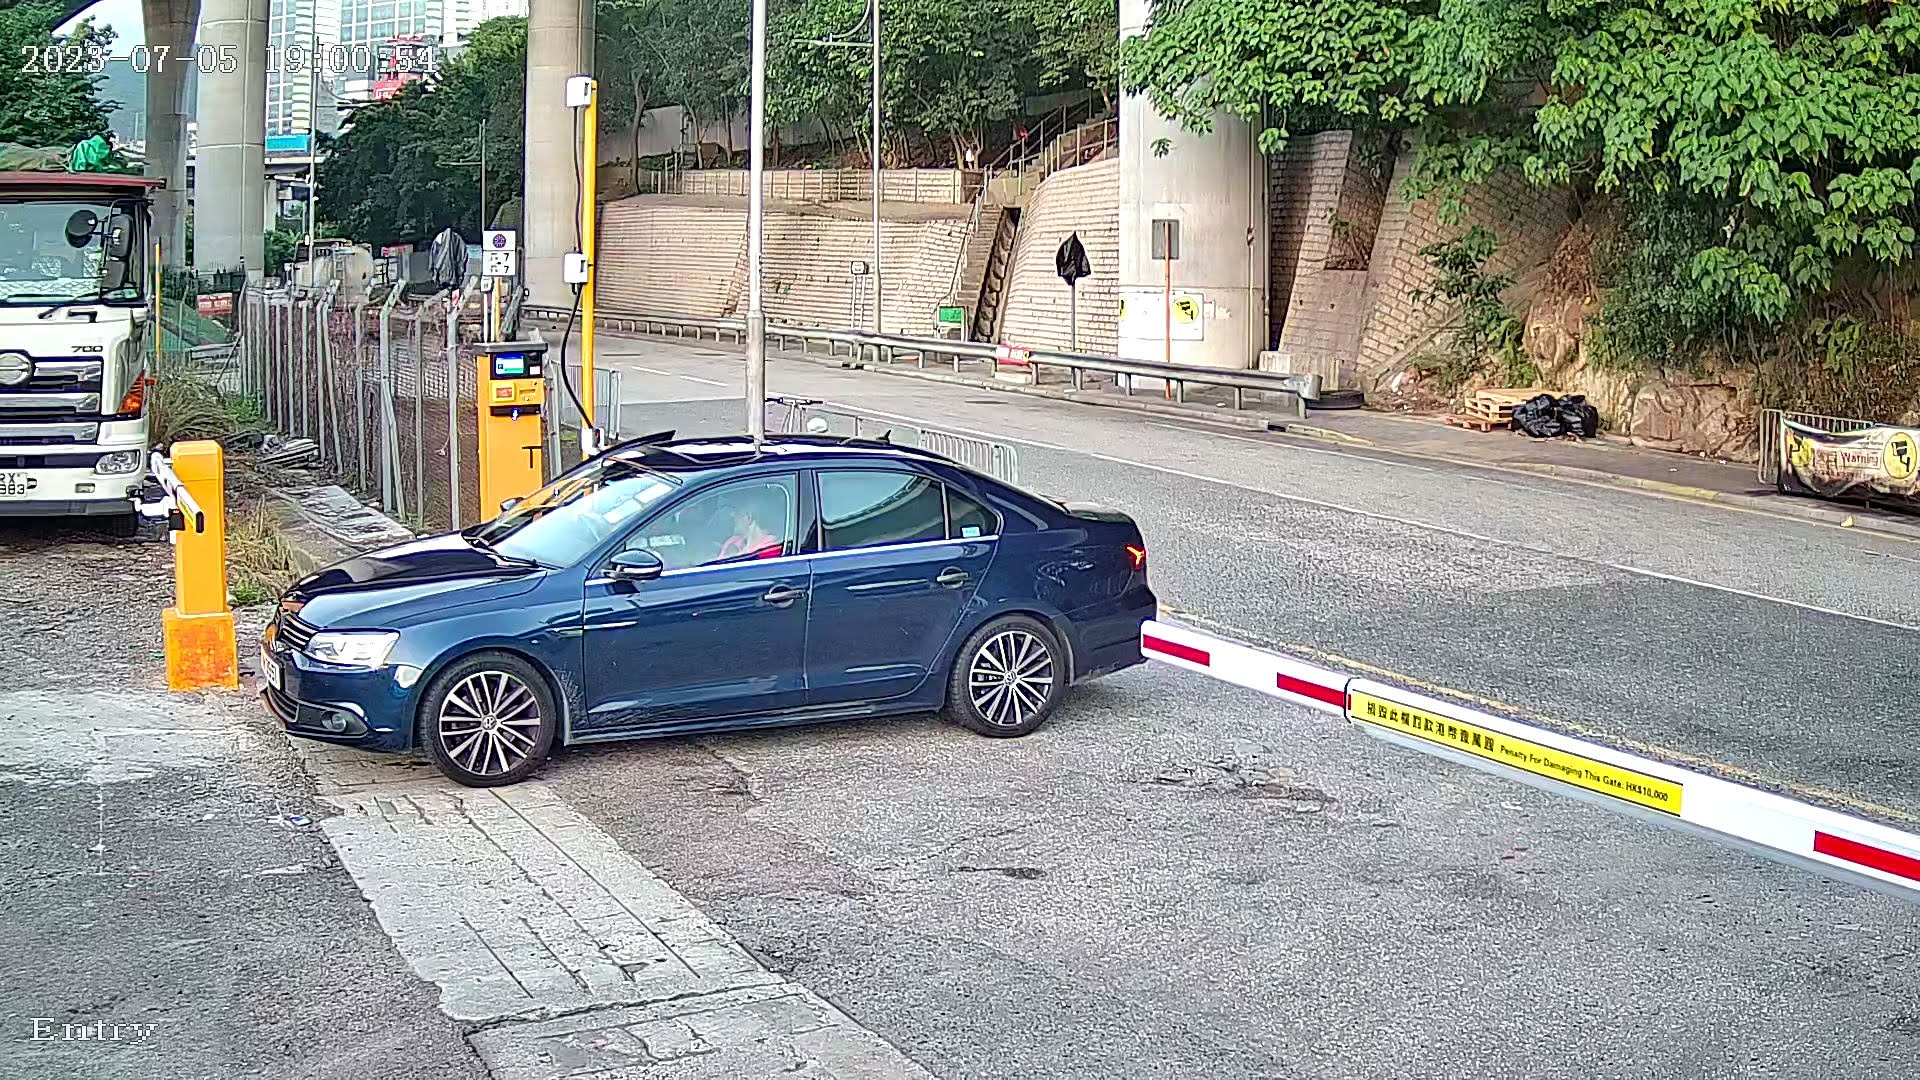privatecar: (215, 407, 1182, 810)
